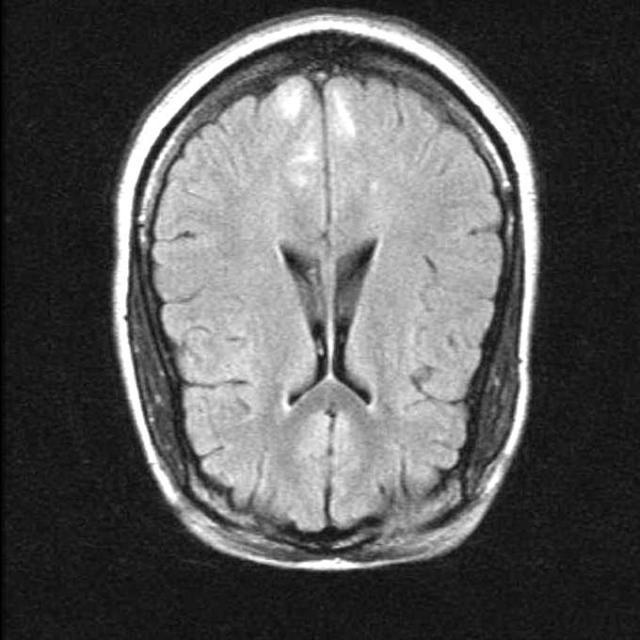notumor: (113, 11, 539, 570)
